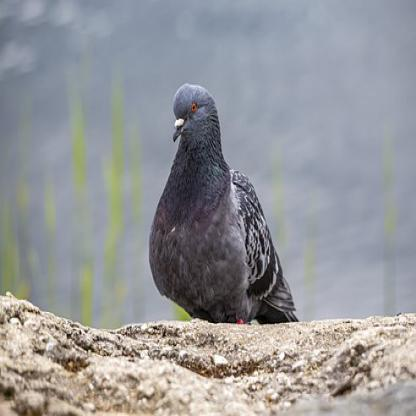Flying Rat: (146, 67, 308, 328)
